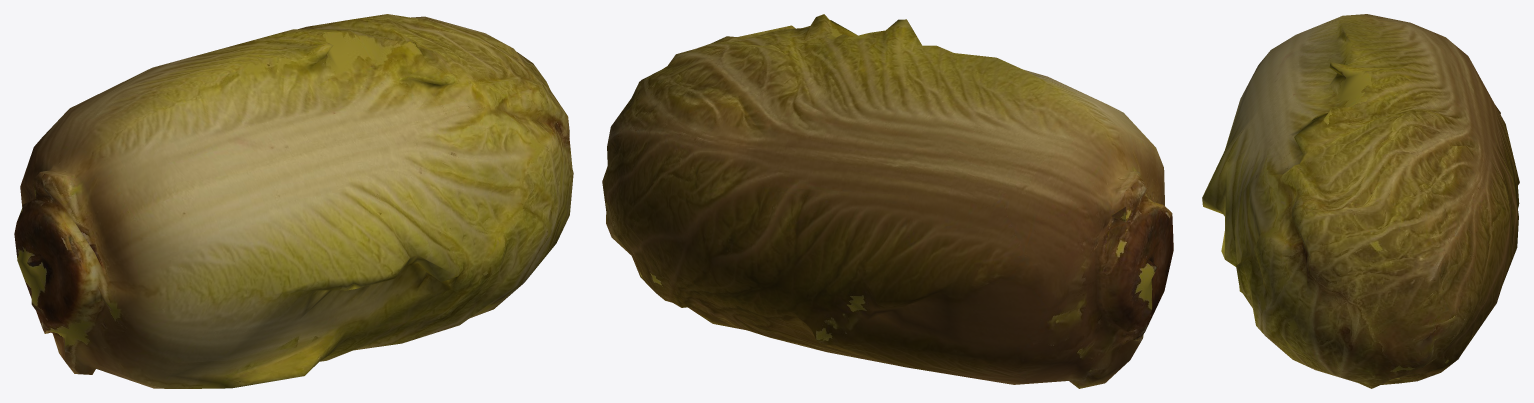
File: 21_napa_cabbage.glb
3 views of the same model, side by side, from view 1: azimuth 30°, elevation 25°; view 2: azimuth 150°, elevation 25°; view 3: azimuth 270°, elevation 25° (orthographic). The views are drawn at different scales.
Parts seen in each view (by area): view 1: 21_napa_cabbage; view 2: 21_napa_cabbage; view 3: 21_napa_cabbage.
Part boxes in pixels (left/top/right/bottom): 21_napa_cabbage: left=14, top=14, right=573, bottom=388; 21_napa_cabbage: left=602, top=14, right=1173, bottom=388; 21_napa_cabbage: left=1202, top=14, right=1519, bottom=388.
Size of the model in its own units: 1.28 by 0.7081 by 0.7678.
Materials: 1 (1 with a texture image).
